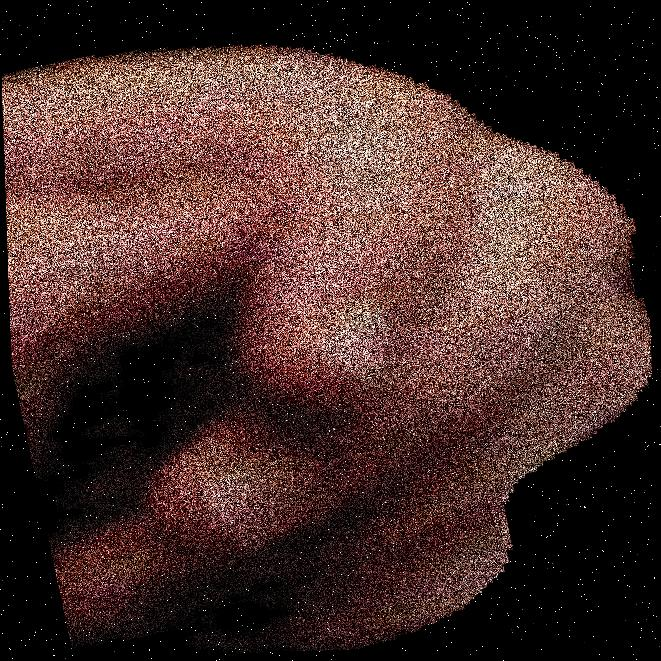Pessoa: (1, 0, 466, 660)
